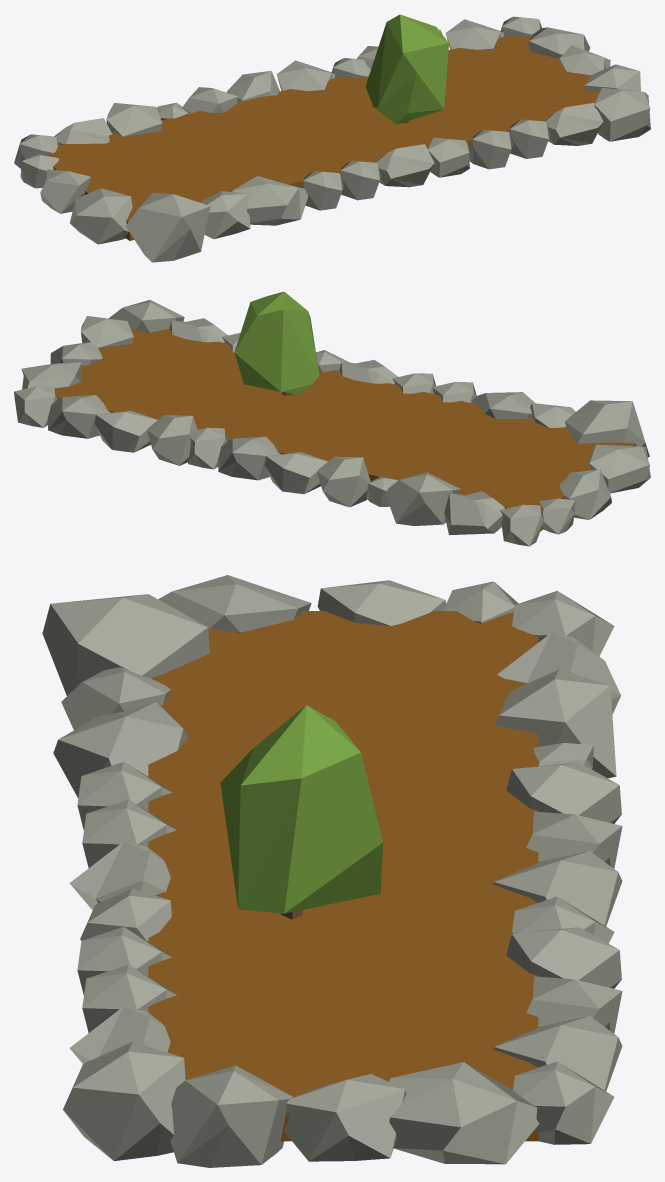
File: tanaman rempah2.fbx
The picture shows the model from 3 angles, top to bottom: view 1: azimuth 30°, elevation 25°; view 2: azimuth 150°, elevation 25°; view 3: azimuth 270°, elevation 25°; orthographic projection. The views are drawn at different scales.
Visible parts, largest first — view 1: ladang kiri, ladang tengah.002, ladang kanan, tanaman rempah.001; view 2: ladang kiri, ladang kanan, ladang tengah.002, tanaman rempah.001; view 3: ladang kanan, ladang kiri, ladang tengah.002, tanaman rempah.001.
Boxes of the visible parts, x1,y1,x2,y2 form: ladang kiri: (14, 102, 308, 262); ladang tengah.002: (183, 58, 469, 210); ladang kanan: (356, 16, 650, 169); tanaman rempah.001: (365, 14, 448, 124); ladang kiri: (366, 392, 650, 546); ladang kanan: (14, 300, 258, 465); ladang tengah.002: (187, 350, 476, 507); tanaman rempah.001: (234, 291, 319, 395); ladang kanan: (63, 926, 622, 1167); ladang kiri: (42, 575, 620, 797); ladang tengah.002: (69, 762, 622, 943); tanaman rempah.001: (220, 705, 382, 919).
Bounding box in the file's own units: 337 × 75.57 × 149.
